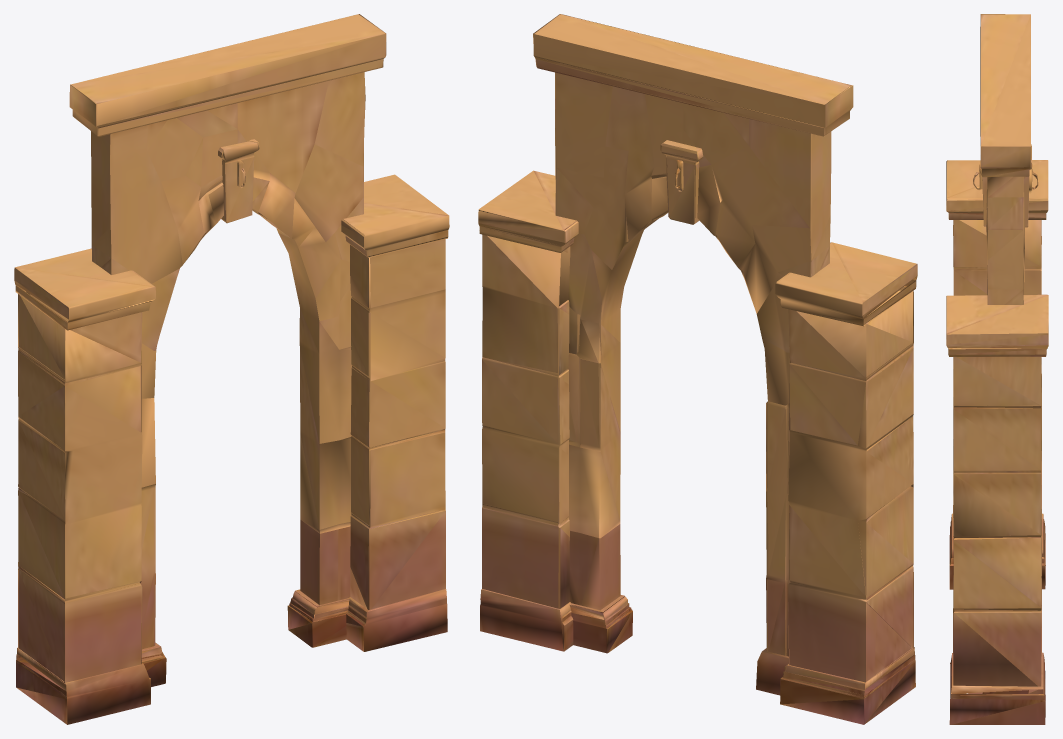
File: arch.lod1.glb
The picture shows the model from 3 angles, left to right: view 1: azimuth 30°, elevation 25°; view 2: azimuth 150°, elevation 25°; view 3: azimuth 270°, elevation 25°; orthographic projection. The views are drawn at different scales.
Bounding box in the file's own units: 2 × 3 × 0.5.
1 material, 1 textured.
